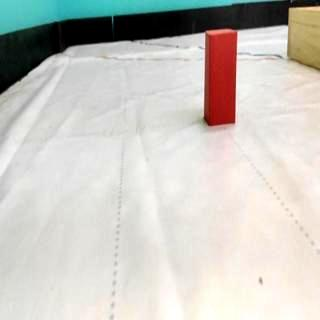redbox: (204, 29, 238, 125)
